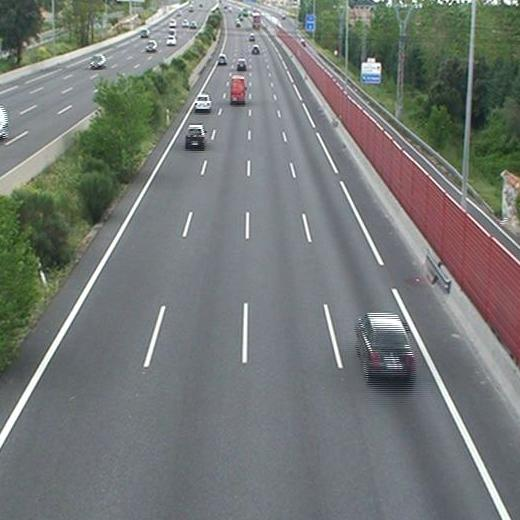car: (357, 313, 413, 372), (186, 125, 205, 147), (194, 95, 211, 110), (237, 59, 247, 71), (217, 55, 227, 64), (251, 46, 259, 54)
van: (231, 77, 245, 102)
